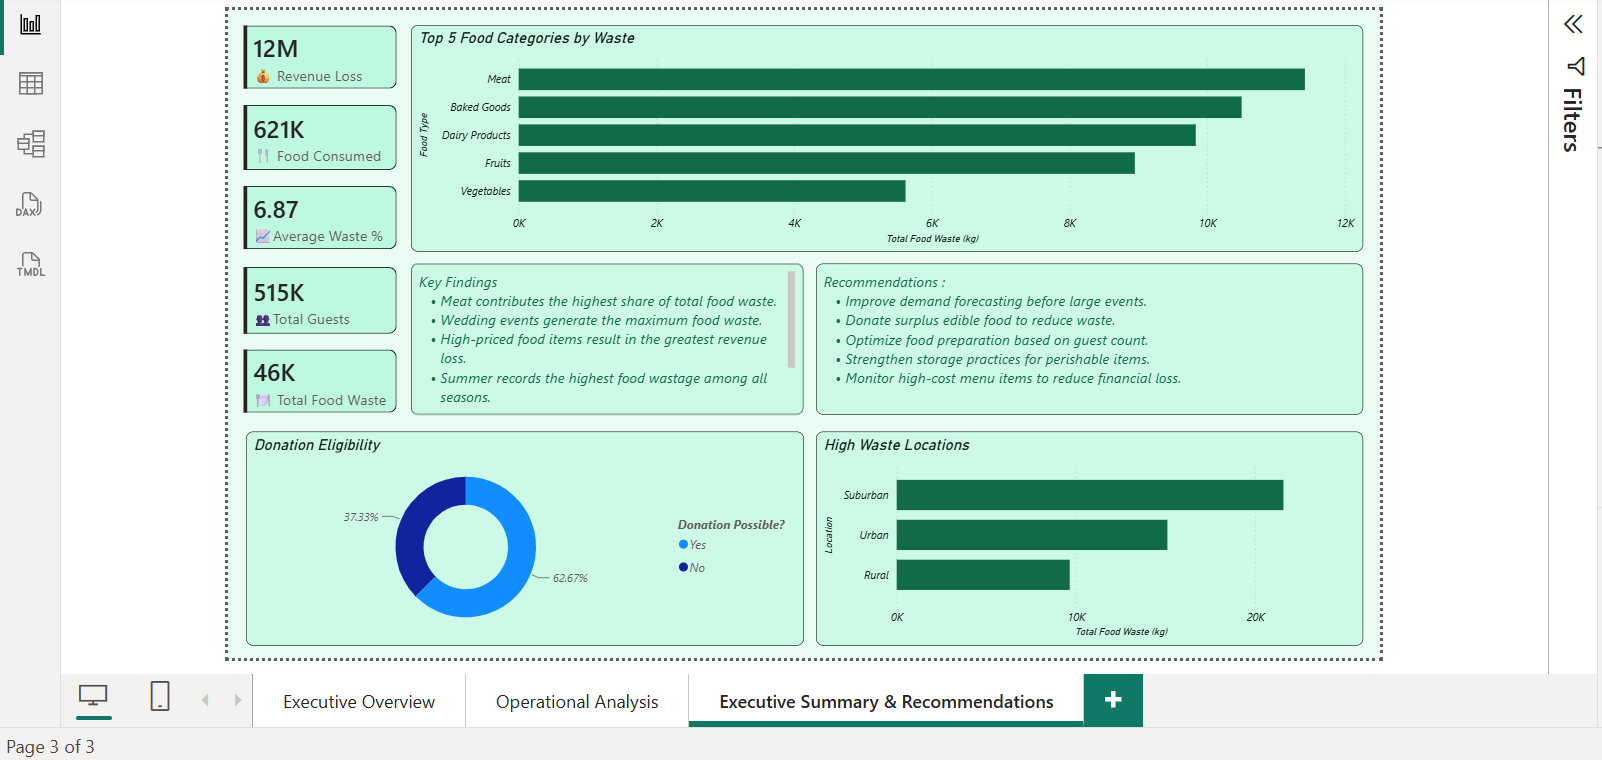

The page's visual inventory and layout, read from the dashboard file:
{"tool":"powerbi","page":{"name":"Executive Summary & Recommendations","canvas":[1280,720],"ordinal":2},"visuals":[{"type":"clusteredBarChart","title":"Top 5 Food Categories by Waste","fields":{"Category":["public food_waste.food_type"],"Y":["Sum(public food_waste.food_wastage_amount)"]},"box":[204,16,1058,252],"z":0},{"type":"donutChart","title":"Donation Eligibility","fields":{"Category":["public food_waste.donation_possible"],"Y":["CountNonNull(public food_waste.food_type)"]},"box":[20,468,620,238],"z":1000},{"type":"barChart","title":"High Waste Locations","fields":{"Category":["public food_waste.location"],"Y":["Sum(public food_waste.food_wastage_amount)"]},"box":[654,468,608,238],"z":2000},{"type":"textbox","box":[654,282,608,168],"z":3000},{"type":"textbox","box":[204,282,436,168],"z":4000},{"type":"cardVisual","fields":{"Data":["public food_waste.Total Revenue Loss"]},"box":[0,0,204,104],"z":5000},{"type":"cardVisual","fields":{"Data":["public food_waste.Total Food Consumed"]},"box":[0,88,204,106],"z":6000},{"type":"cardVisual","fields":{"Data":["public food_waste.Average Waste %"]},"box":[0,178,204,104],"z":7000},{"type":"cardVisual","fields":{"Data":["public food_waste.Total Guests"]},"box":[0,268,204,108],"z":8000},{"type":"cardVisual","fields":{"Data":["public food_waste.Total Food Waste"]},"box":[0,360,204,104],"z":9000}]}

Visuals, with their boxes on the page's 1280x720 design canvas (x1, y1, x2, y2). These are canvas units, not pixel positions in the 1602x760 screenshot, which may show the page scaled, cropped or inside an application window:
"Top 5 Food Categories by Waste" clusteredBarChart: region(204, 16, 1262, 268)
"Donation Eligibility" donutChart: region(20, 468, 640, 706)
"High Waste Locations" barChart: region(654, 468, 1262, 706)
textbox: region(654, 282, 1262, 450)
textbox: region(204, 282, 640, 450)
cardVisual - public food_waste.Total Revenue Loss: region(0, 0, 204, 104)
cardVisual - public food_waste.Total Food Consumed: region(0, 88, 204, 194)
cardVisual - public food_waste.Average Waste %: region(0, 178, 204, 282)
cardVisual - public food_waste.Total Guests: region(0, 268, 204, 376)
cardVisual - public food_waste.Total Food Waste: region(0, 360, 204, 464)
